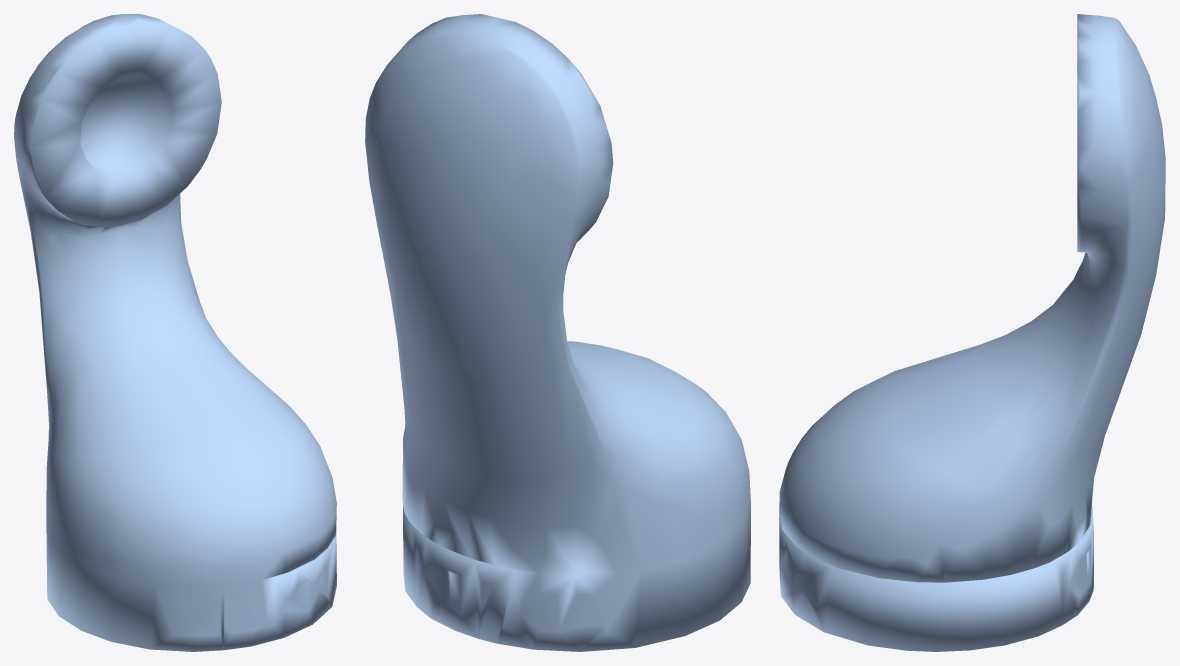
The picture shows the model from 3 angles, left to right: view 1: azimuth 30°, elevation 25°; view 2: azimuth 150°, elevation 25°; view 3: azimuth 270°, elevation 25°; orthographic projection. The views are drawn at different scales.
Parts seen in each view (by area): view 1: Link_5; view 2: Link_5; view 3: Link_5.
Boxes of the visible parts, box(x1,y1,x2,y2) form: Link_5: box(14, 14, 336, 651); Link_5: box(365, 14, 750, 651); Link_5: box(779, 14, 1165, 651).
Bounding box in the file's own units: 0.1362 × 0.167 × 0.277.
